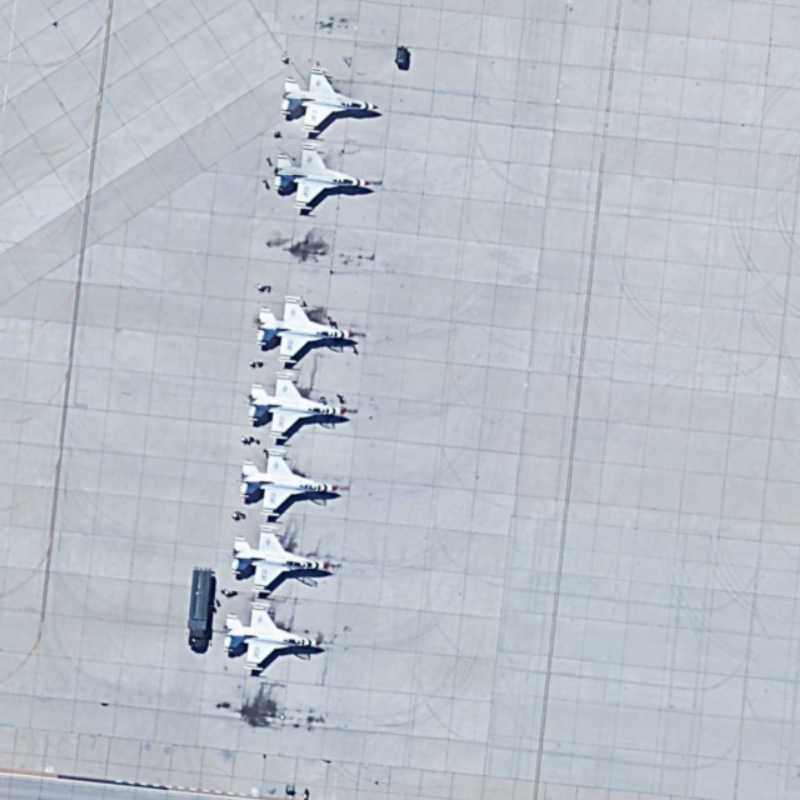A5: (250, 285, 366, 368), (244, 357, 351, 446), (268, 141, 384, 219), (221, 595, 329, 678), (235, 448, 348, 527), (226, 523, 347, 594), (272, 64, 383, 141)
